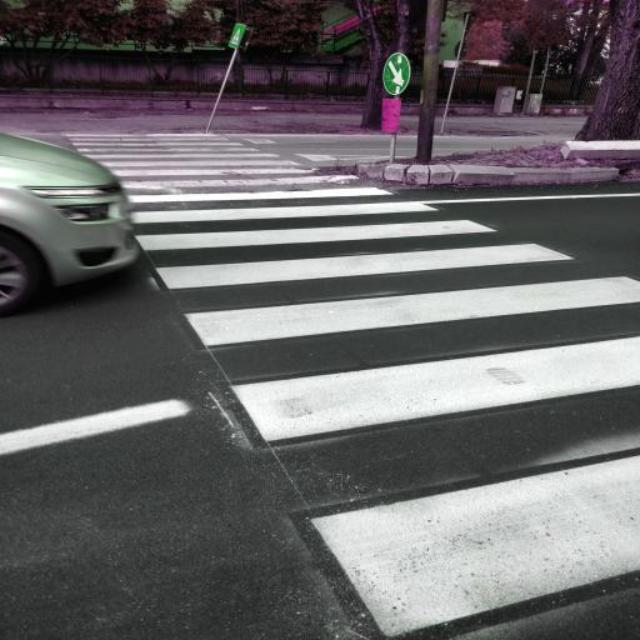sidewalk: (102, 155, 640, 640)
